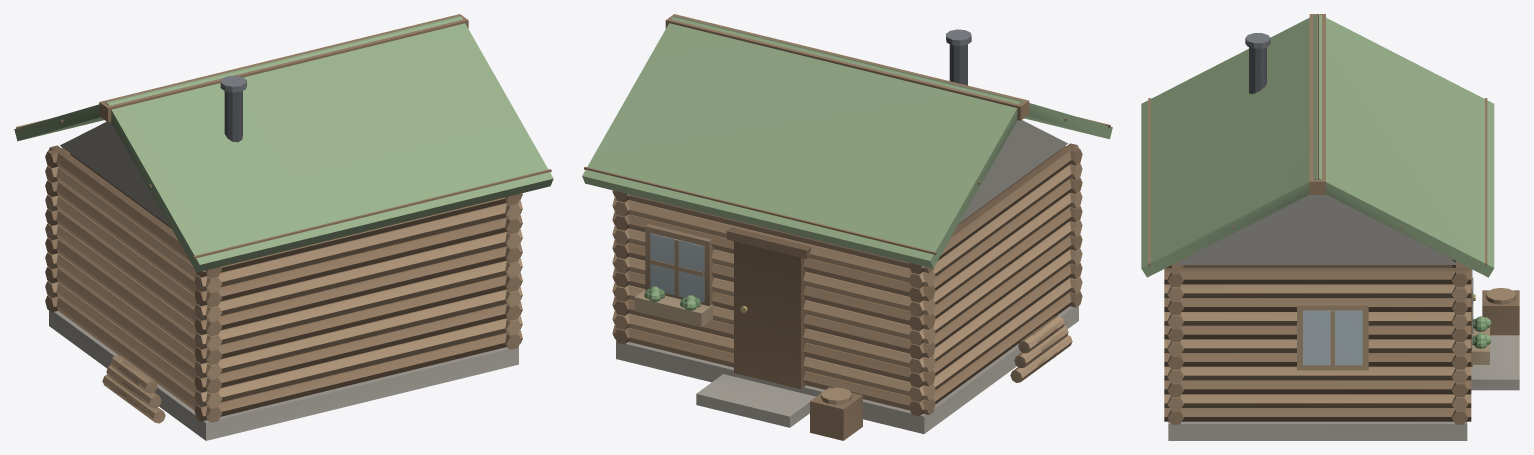
The model's file is home_hut__green.glb.
3 renders of one model, left to right at view 1: azimuth 30°, elevation 25°; view 2: azimuth 150°, elevation 25°; view 3: azimuth 270°, elevation 25°, orthographic. The views are drawn at different scales.
Size of the model in its own units: 5.3 by 4.31 by 5.06.
